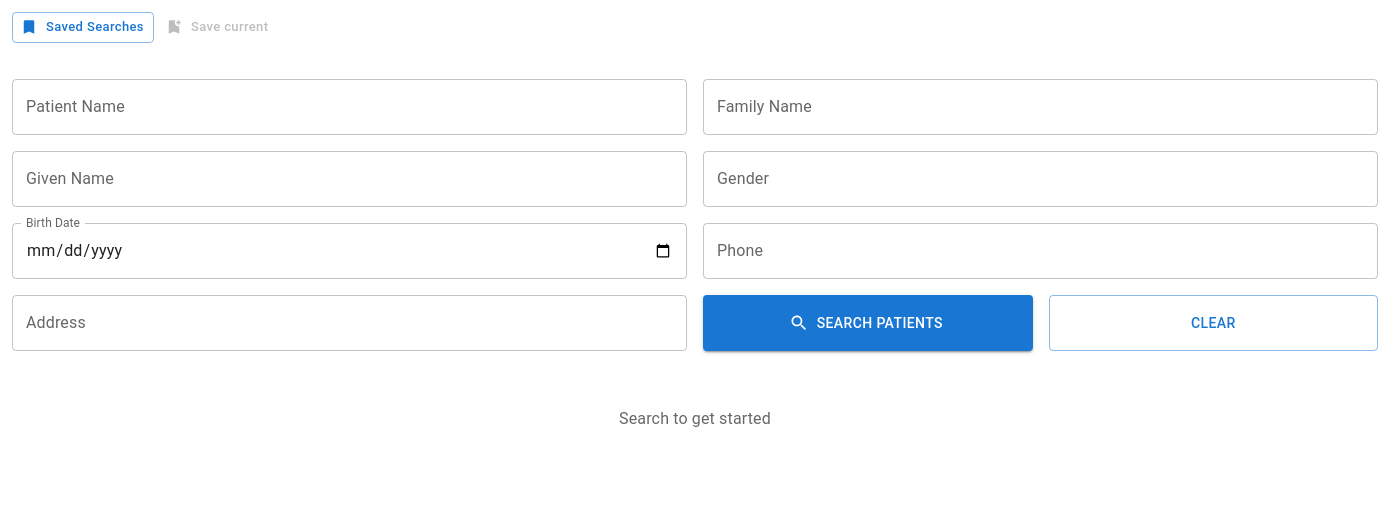
Test case: PatientSearch › shows an error alert when the API throws
This screenshot has width=1390, height=516.
What coordinates should you click on to do the following:
click the button "Search Patients"
I would click on:
 (868, 323)
Its box is [703,295,1032,351].
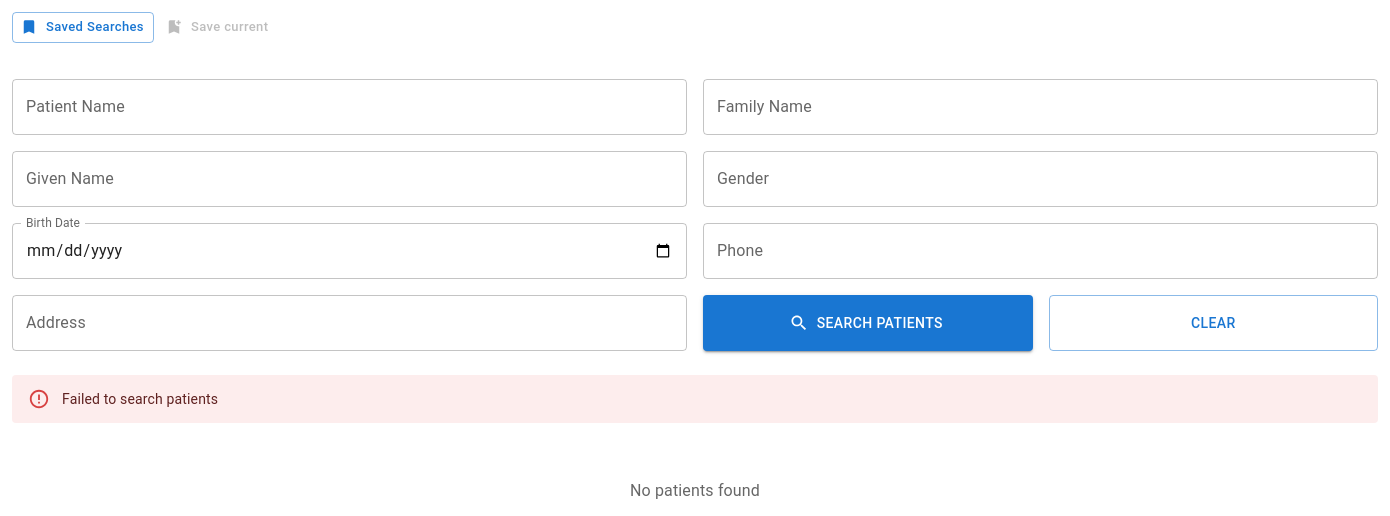
Expected: the message "Failed to search patients" is shown, [12,375,1378,423]
Expected: the text "Failed to search patients" is shown, [62,391,218,407]
